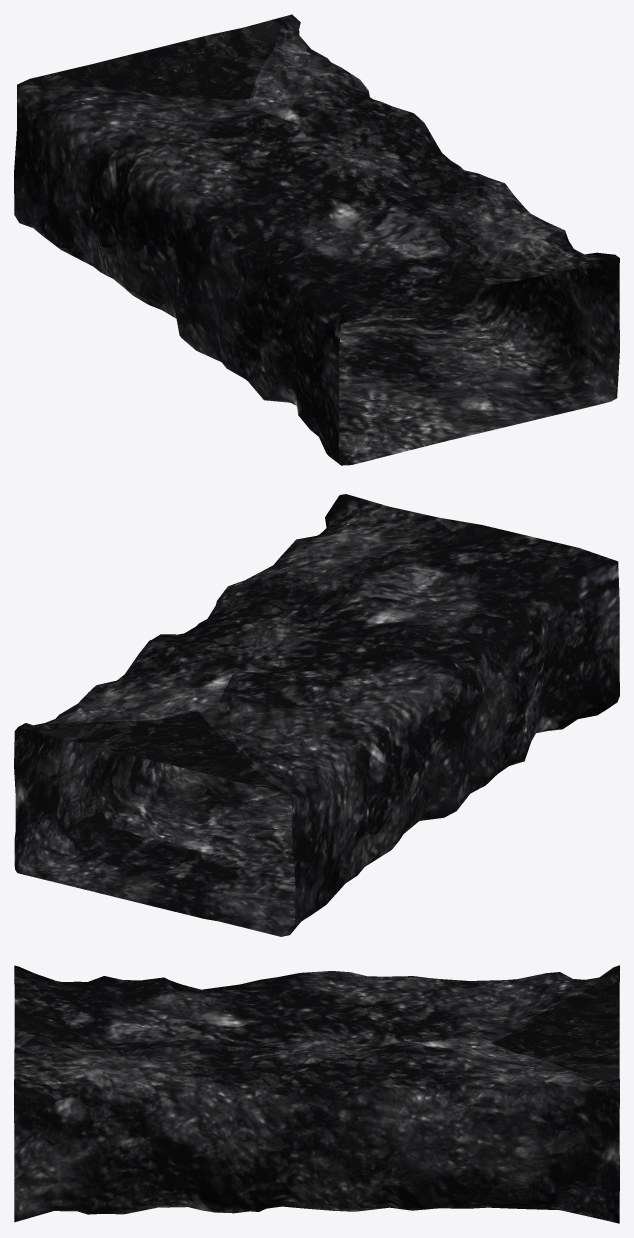
3 renders of one model, top to bottom at view 1: azimuth 30°, elevation 25°; view 2: azimuth 150°, elevation 25°; view 3: azimuth 270°, elevation 25°, orthographic. The views are drawn at different scales.
Visible parts, largest first — view 1: tunnel1; view 2: tunnel1; view 3: tunnel1.
Boxes of the visible parts, x1,y1,x2,y2 form: tunnel1: (14,14,619,465); tunnel1: (14,494,619,936); tunnel1: (14,965,619,1223).
Size of the model in its own units: 196 by 390 by 98.12.
